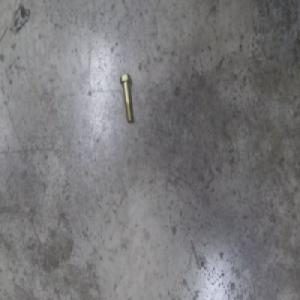Bolt: (120, 72, 133, 121)
